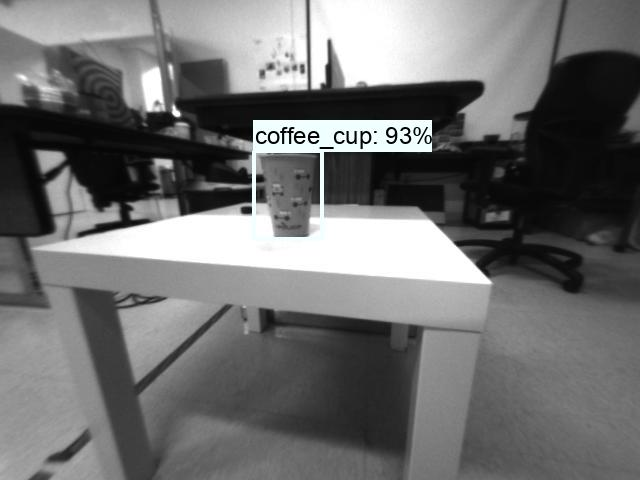coffee_cup: (257, 154, 323, 240)
